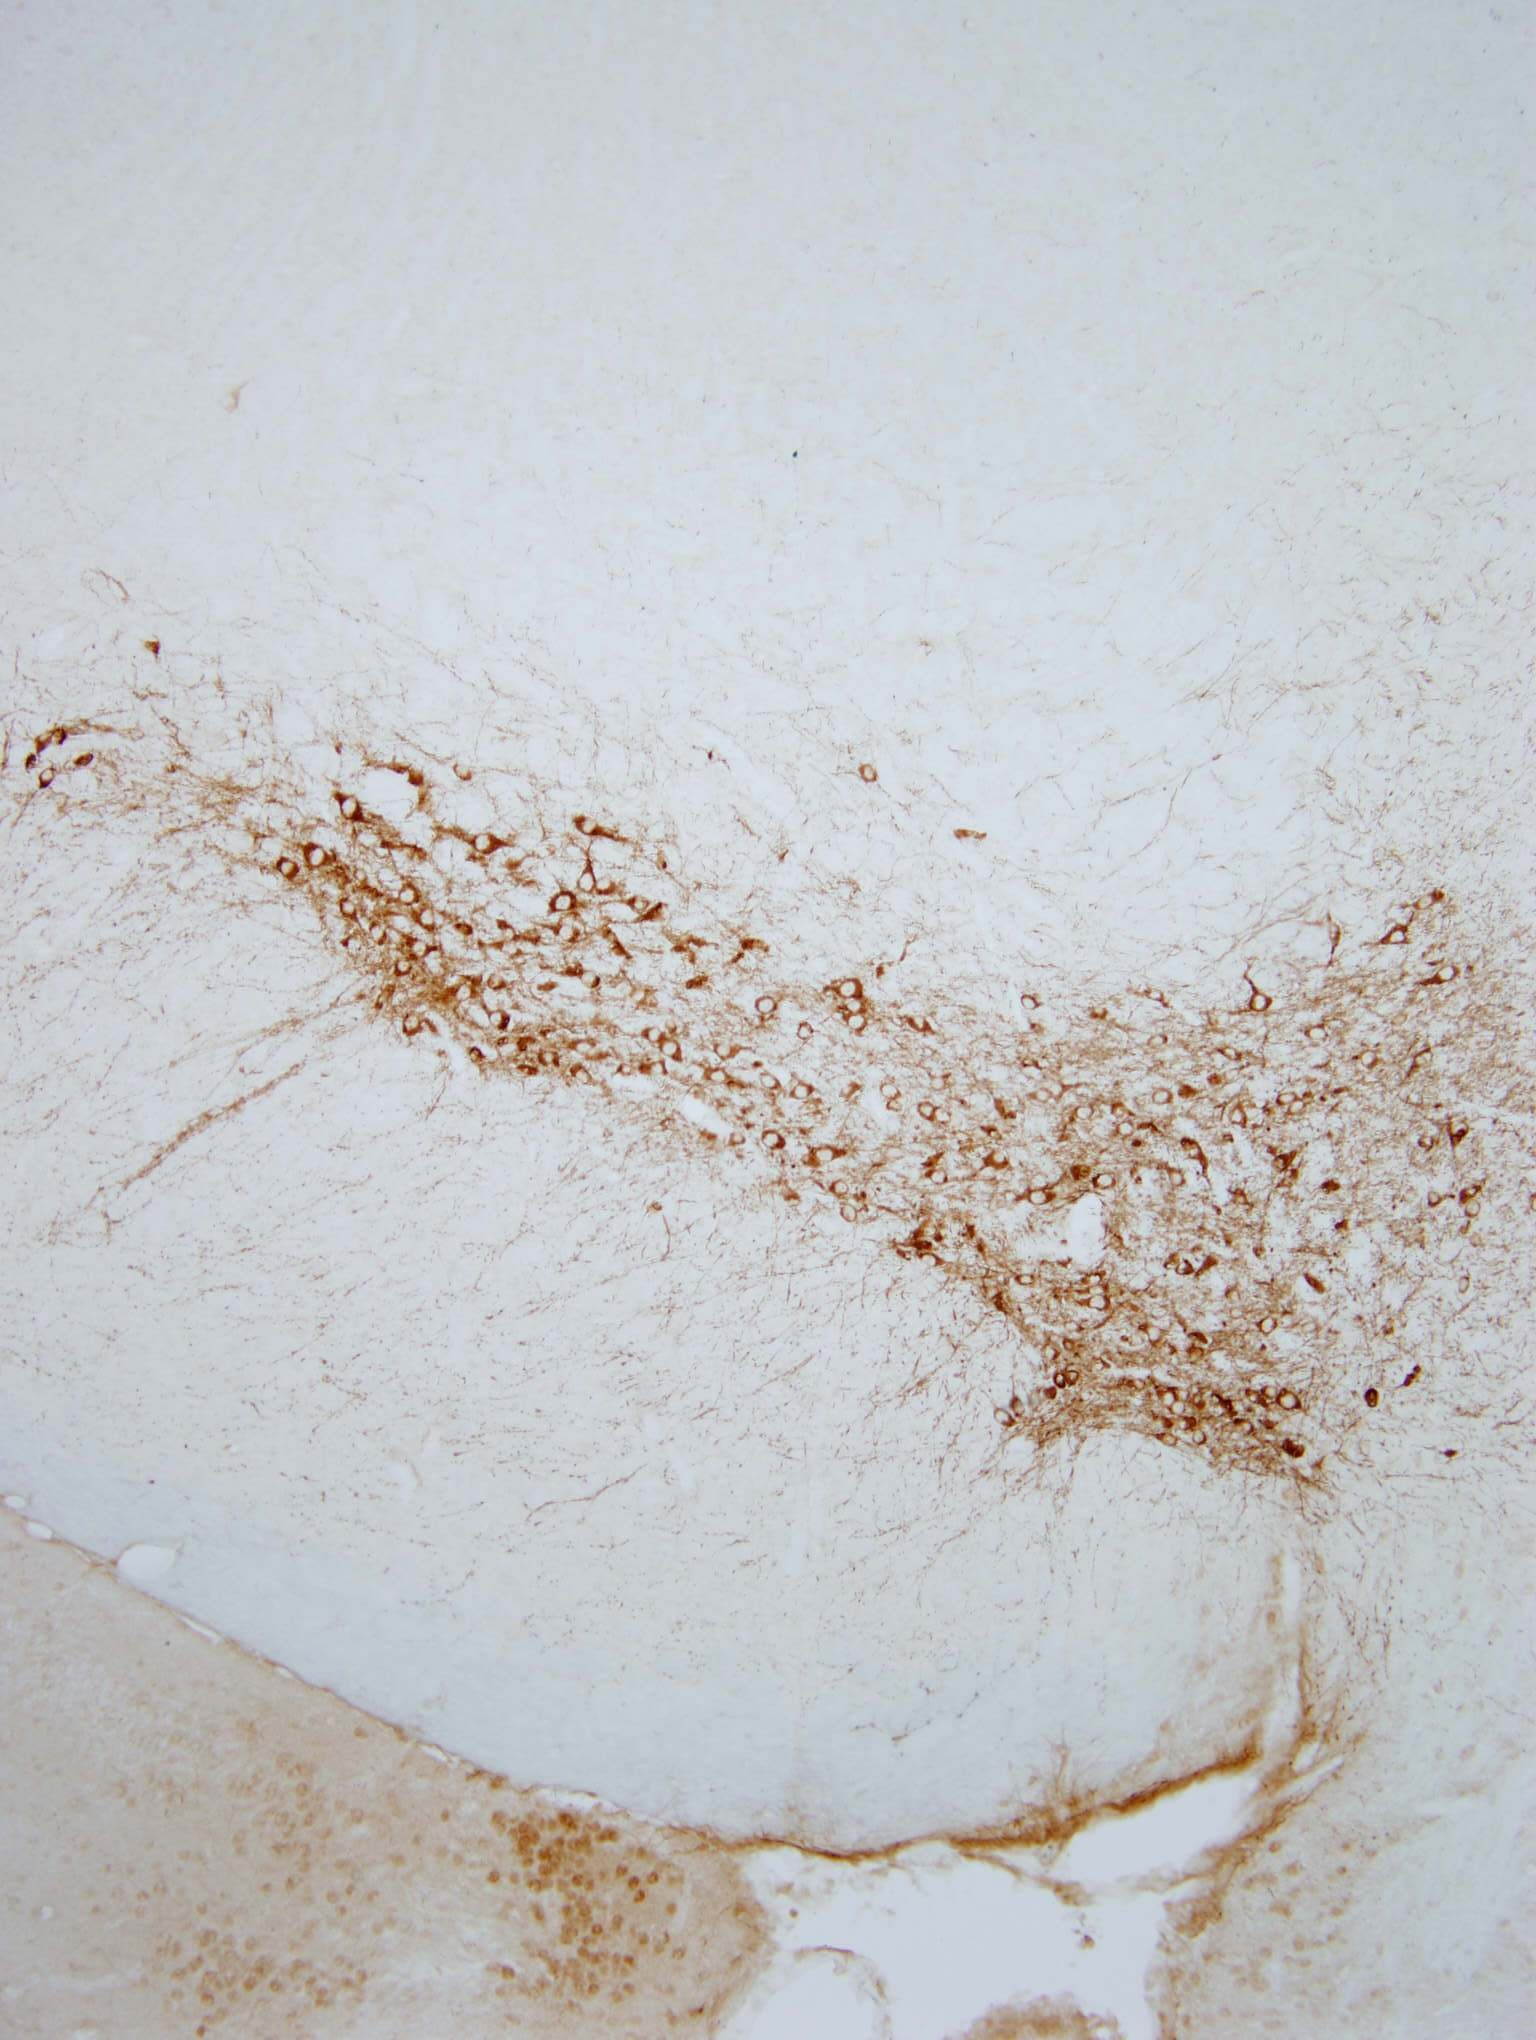neuron: (269, 850, 307, 885), (298, 842, 336, 877), (468, 826, 503, 863), (336, 790, 371, 826), (394, 1008, 429, 1043), (545, 887, 581, 922), (1008, 1397, 1033, 1421), (1012, 1269, 1036, 1293), (1020, 989, 1044, 1013), (1046, 1372, 1070, 1397), (1060, 1338, 1084, 1363), (1075, 1098, 1099, 1122), (1084, 1263, 1108, 1287), (1086, 1277, 1110, 1301), (1087, 1295, 1112, 1319), (1094, 1168, 1118, 1192), (1110, 1098, 1134, 1122), (1150, 1089, 1175, 1113), (1171, 1413, 1196, 1437), (1173, 1259, 1197, 1284), (1181, 1143, 1205, 1168), (1187, 1347, 1212, 1371), (1196, 1427, 1220, 1451), (1226, 1106, 1250, 1130), (1231, 1419, 1255, 1443), (1238, 1387, 1262, 1411), (1246, 993, 1270, 1018), (1255, 1314, 1279, 1338), (1255, 1382, 1279, 1406), (1276, 1085, 1300, 1110), (1276, 1388, 1300, 1413), (1284, 1098, 1309, 1122), (1307, 1021, 1331, 1045), (1326, 922, 1350, 947), (1359, 1045, 1383, 1069), (1384, 924, 1409, 948), (1415, 1130, 1439, 1155), (1421, 1184, 1446, 1208), (1434, 964, 1459, 989), (1462, 1197, 1486, 1221), (31, 727, 55, 751), (336, 898, 360, 922), (37, 764, 61, 789), (392, 958, 416, 982), (399, 884, 423, 908), (408, 939, 432, 963), (452, 982, 476, 1006), (463, 1045, 487, 1069), (484, 969, 508, 993), (487, 1010, 511, 1034), (539, 1047, 563, 1071), (558, 922, 582, 947), (570, 1064, 594, 1089), (573, 1040, 597, 1064), (579, 814, 603, 839), (579, 972, 603, 997), (632, 893, 657, 918), (644, 1021, 668, 1045), (660, 1040, 684, 1064), (708, 1068, 733, 1092), (713, 1039, 737, 1063), (724, 1127, 749, 1151), (755, 993, 779, 1018), (762, 1127, 786, 1151), (791, 1080, 815, 1105), (795, 1019, 820, 1043), (812, 1143, 836, 1168), (829, 1177, 854, 1201), (836, 1201, 860, 1226), (839, 976, 863, 1000), (845, 1013, 870, 1037), (858, 763, 883, 787), (879, 1077, 904, 1101), (907, 1013, 931, 1037), (910, 1097, 934, 1121), (928, 1168, 952, 1192), (987, 1147, 1012, 1171), (992, 1406, 1016, 1430), (1028, 1185, 1050, 1209), (1062, 1366, 1084, 1390), (1083, 1001, 1105, 1026), (1113, 1121, 1137, 1143), (1149, 1034, 1171, 1058), (1149, 985, 1171, 1010), (1162, 1171, 1184, 1195), (1362, 1385, 1384, 1409), (1412, 890, 1434, 914), (1459, 1271, 1483, 1293), (1462, 1180, 1484, 1205), (368, 926, 392, 948), (453, 763, 478, 785), (499, 926, 523, 948), (578, 871, 600, 895), (758, 1071, 783, 1093), (839, 1076, 863, 1098), (842, 997, 866, 1019), (886, 1097, 908, 1121), (920, 1251, 942, 1276), (933, 1105, 957, 1127), (1033, 1084, 1055, 1106), (1041, 1350, 1063, 1372), (928, 1076, 950, 1098)
